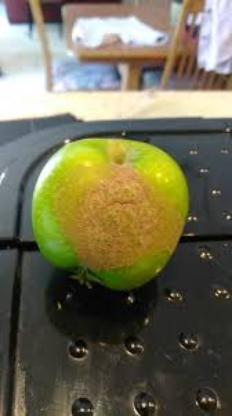defect: (54, 160, 180, 276)
